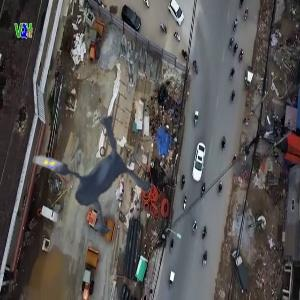drone: (6, 87, 173, 254)
